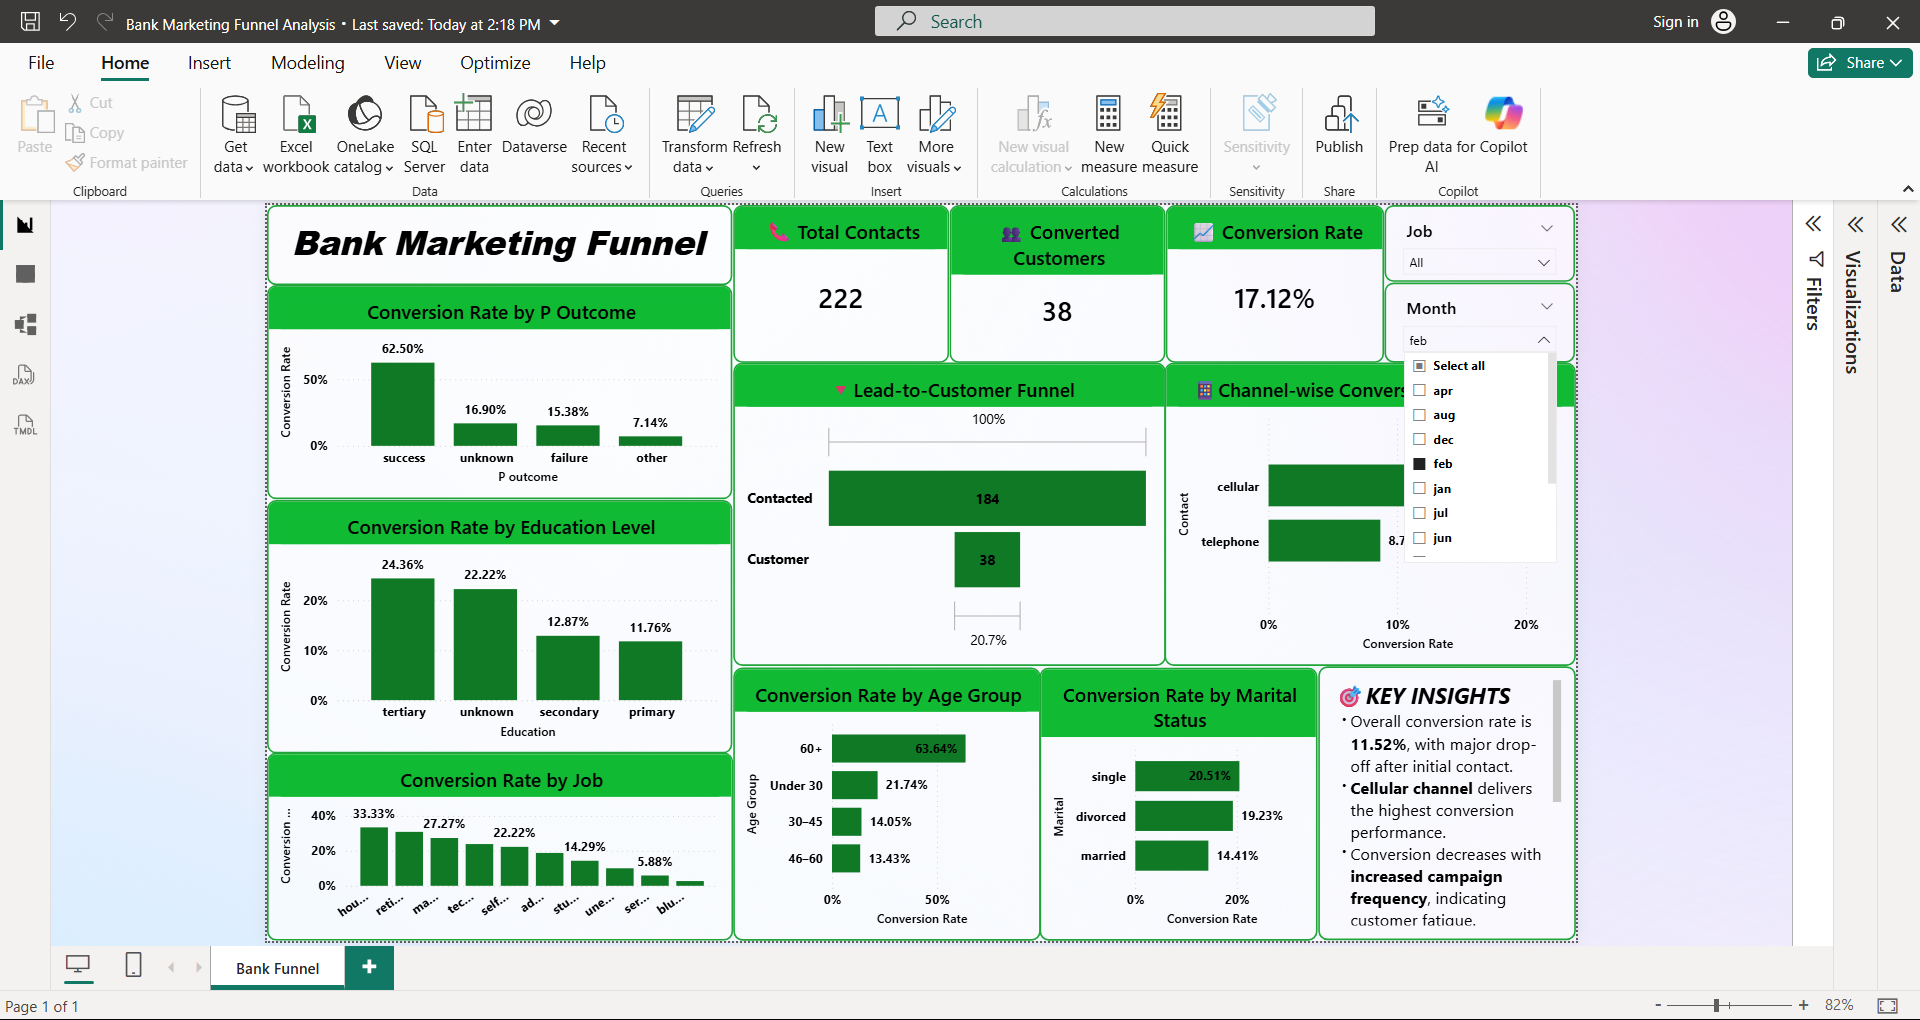

The page's visual inventory and layout, read from the dashboard file:
{"tool":"powerbi","page":{"name":"Page 1","canvas":[1280,720],"ordinal":0},"visuals":[{"type":"card","title":"Total Contacts","fields":{"Values":["Cleaned_Bank_data.Total Contacts"]},"box":[455.6,0,211.3,153.7],"z":0},{"type":"card","title":"Converted Customers","fields":{"Values":["Cleaned_Bank_data.Total Customers"]},"box":[666.9,0,219.6,153.7],"z":1000},{"type":"card","title":"Conversion Rate","fields":{"Values":["Cleaned_Bank_data.Conversion Rate"]},"box":[886.6,0,210.3,154.1],"z":2000},{"type":"funnel","title":"Lead-to-Customer Funnel","fields":{"Y":["Cleaned_Bank_data.Funnel Count"],"Category":["Cleaned_Bank_data.Funnel Stage"]},"box":[455.6,153.7,413,299.1],"z":3000},{"type":"clusteredBarChart","title":"Channel-wise Conversion Performance","fields":{"Category":["Cleaned_Bank_data.Contact"],"Y":["Cleaned_Bank_data.Conversion Rate"]},"box":[868.6,153.7,411.7,299.1],"z":4000},{"type":"slicer","fields":{"Values":["Cleaned_Bank_data.Month"]},"box":[1093.7,75.5,186.6,78.2],"z":5000},{"type":"slicer","fields":{"Values":["Cleaned_Bank_data.Job"]},"box":[1093.7,0,186.6,75.5],"z":6000},{"type":"clusteredBarChart","title":"Conversion Rate by Marital Status","fields":{"Category":["Cleaned_Bank_data.Marital"],"Y":["Cleaned_Bank_data.Conversion Rate"]},"box":[756.1,452.8,271.7,267.6],"z":7000},{"type":"clusteredColumnChart","title":"Conversion Rate by Education Level","fields":{"Category":["Cleaned_Bank_data.Education"],"Y":["Cleaned_Bank_data.Conversion Rate"]},"box":[0,288.2,455.6,248.4],"z":8000},{"type":"clusteredBarChart","fields":{"Category":["Cleaned_Bank_data.Age Group"],"Y":["Cleaned_Bank_data.Conversion Rate"]},"box":[455.6,452.8,300.5,267.6],"z":9000},{"type":"clusteredColumnChart","title":"Conversion Rate by P Outcome","fields":{"Y":["Cleaned_Bank_data.Conversion Rate"],"Category":["Cleaned_Bank_data.P out Come"]},"box":[0,78.2,455.6,209.9],"z":10000},{"type":"textbox","title":"Bank Marketing Funnel","box":[0,0,455.6,78.2],"z":11000},{"type":"clusteredColumnChart","fields":{"Category":["Cleaned_Bank_data.Job"],"Y":["Cleaned_Bank_data.Conversion Rate"]},"box":[0,536,456,184],"z":12000},{"type":"textbox","box":[1028.4,451.2,251.9,267.8],"z":13000}]}

Visuals, with their boxes on the page's 1280x720 design canvas (x1, y1, x2, y2). These are canvas units, not pixel positions in the 1920x1020 screenshot, which may show the page scaled, cropped or inside an application window:
"Total Contacts" card: [x1=456, y1=0, x2=667, y2=154]
"Converted Customers" card: [x1=667, y1=0, x2=886, y2=154]
"Conversion Rate" card: [x1=887, y1=0, x2=1097, y2=154]
"Lead-to-Customer Funnel" funnel: [x1=456, y1=154, x2=869, y2=453]
"Channel-wise Conversion Performance" clusteredBarChart: [x1=869, y1=154, x2=1280, y2=453]
slicer - Cleaned_Bank_data.Month: [x1=1094, y1=76, x2=1280, y2=154]
slicer - Cleaned_Bank_data.Job: [x1=1094, y1=0, x2=1280, y2=76]
"Conversion Rate by Marital Status" clusteredBarChart: [x1=756, y1=453, x2=1028, y2=720]
"Conversion Rate by Education Level" clusteredColumnChart: [x1=0, y1=288, x2=456, y2=537]
clusteredBarChart - Cleaned_Bank_data.Age Group x Cleaned_Bank_data.Conversion Rate: [x1=456, y1=453, x2=756, y2=720]
"Conversion Rate by P Outcome" clusteredColumnChart: [x1=0, y1=78, x2=456, y2=288]
"Bank Marketing Funnel" textbox: [x1=0, y1=0, x2=456, y2=78]
clusteredColumnChart - Cleaned_Bank_data.Job x Cleaned_Bank_data.Conversion Rate: [x1=0, y1=536, x2=456, y2=720]
textbox: [x1=1028, y1=451, x2=1280, y2=719]
